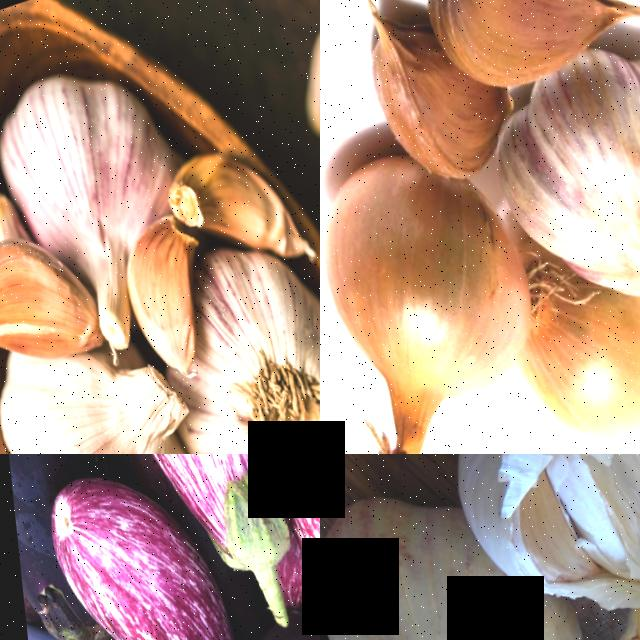eggplant: (20, 454, 239, 640), (103, 454, 302, 592)
garlic: (479, 31, 640, 327), (320, 469, 571, 640), (400, 454, 640, 630), (0, 55, 171, 273), (176, 234, 320, 454), (345, 4, 484, 199), (405, 0, 640, 105), (0, 343, 213, 454), (100, 218, 217, 388), (155, 144, 297, 284), (0, 227, 91, 381)
